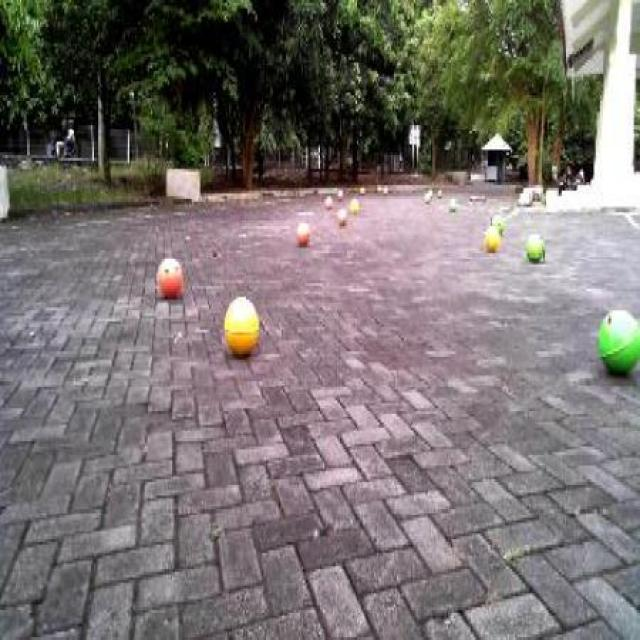buoy: (595, 299, 639, 385), (223, 287, 261, 353), (152, 250, 186, 303), (521, 228, 547, 266), (295, 217, 311, 244)
